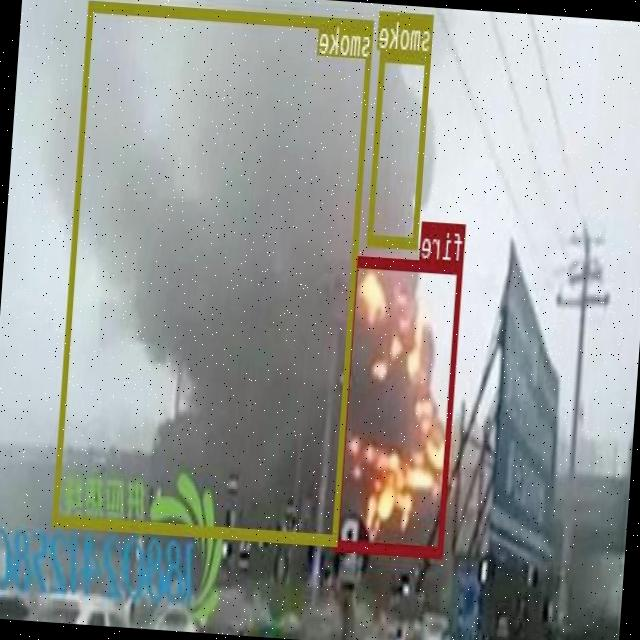fire: (334, 253, 463, 554)
smoke: (53, 0, 375, 543), (368, 50, 432, 246)
